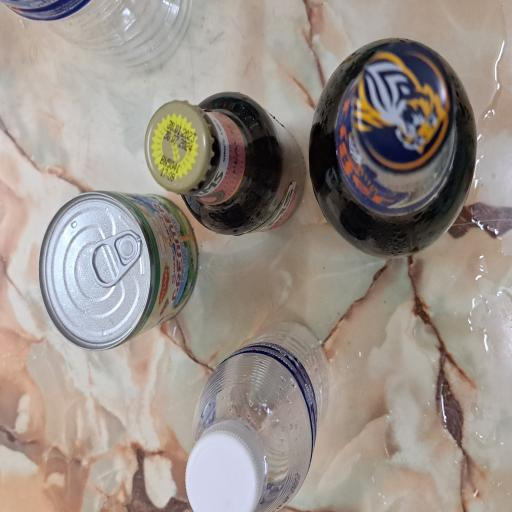can: (122, 50, 240, 266)
glass bottle: (206, 191, 316, 410), (191, 409, 355, 512)
plastic bottle: (0, 267, 143, 441), (326, 0, 384, 260)
plastic bottle cap: (0, 244, 69, 355)
pop tab: (168, 120, 212, 191)
